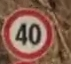limite 40: (1, 4, 57, 60)
